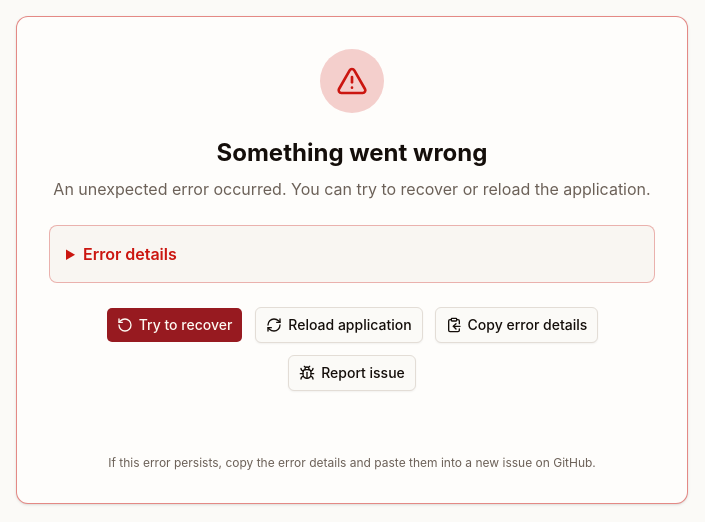
Test: When a component outside the router throws › If the main process reports the issue tracker could not be opened, Then a failure message is shown
The image size is (705, 522).
Click the button "Report issue".
click(352, 373)  # box [288,355,416,391]
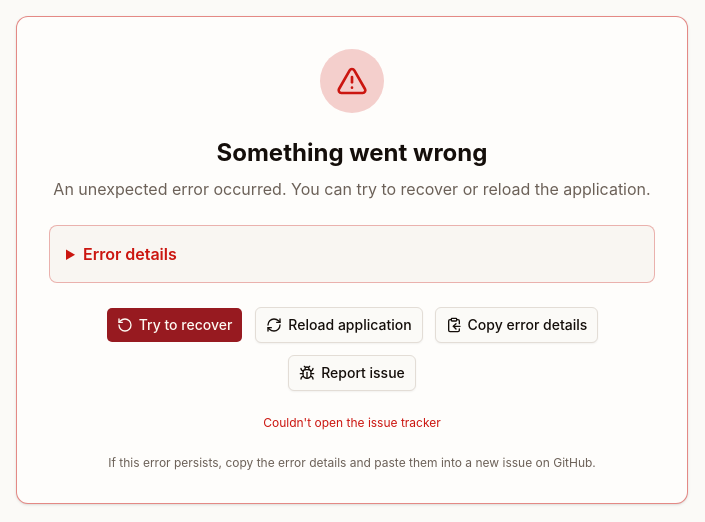
Expected: the text "Couldn't open the issue tracker" is shown, [263,415,441,430]
